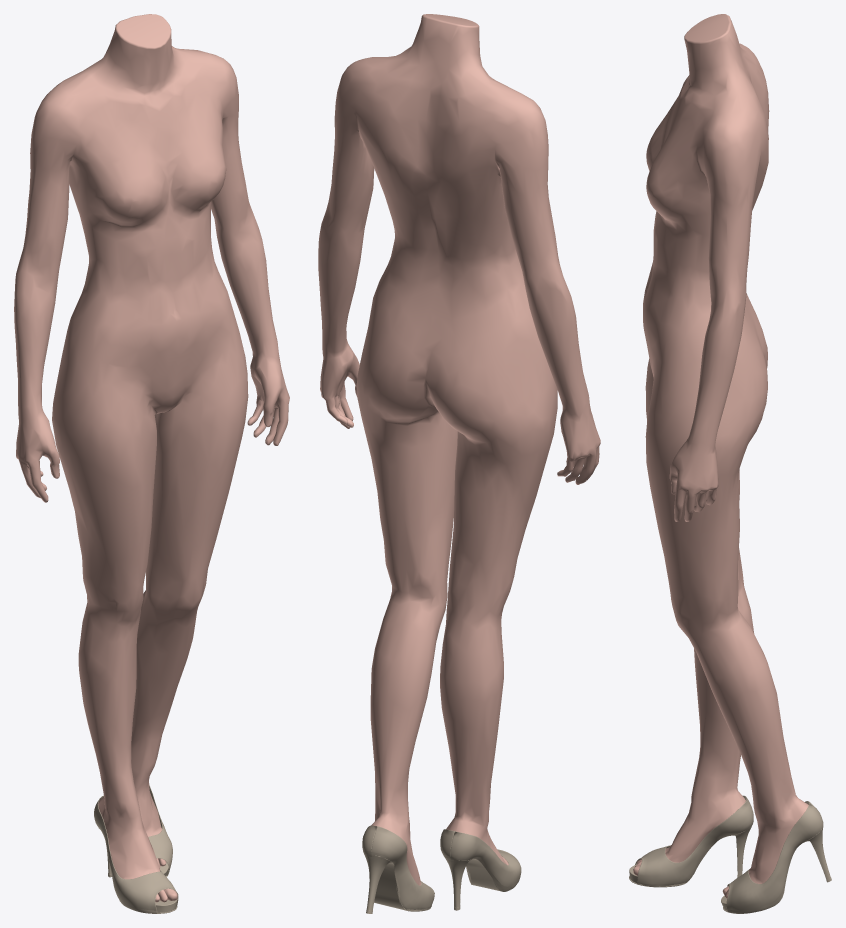
Rendered from trench_coat_body.glb.
3 renders of one model, left to right at view 1: azimuth 30°, elevation 25°; view 2: azimuth 150°, elevation 25°; view 3: azimuth 270°, elevation 25°, orthographic. The views are drawn at different scales.
Visible parts, largest first — view 1: shoes_r_Node; view 2: shoes_r_Node; view 3: shoes_r_Node.
Boxes of the visible parts, box(x1,y1,x2,y2) form: shoes_r_Node: box(14, 14, 289, 913); shoes_r_Node: box(318, 14, 600, 913); shoes_r_Node: box(629, 14, 831, 913).
Bounding box in the file's own units: 53.57 × 168 × 35.22.
